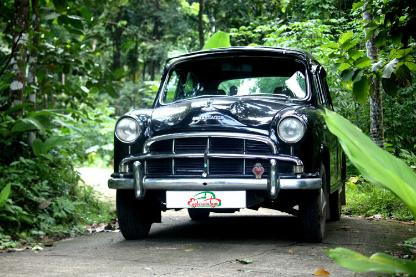car: (108, 28, 349, 245)
